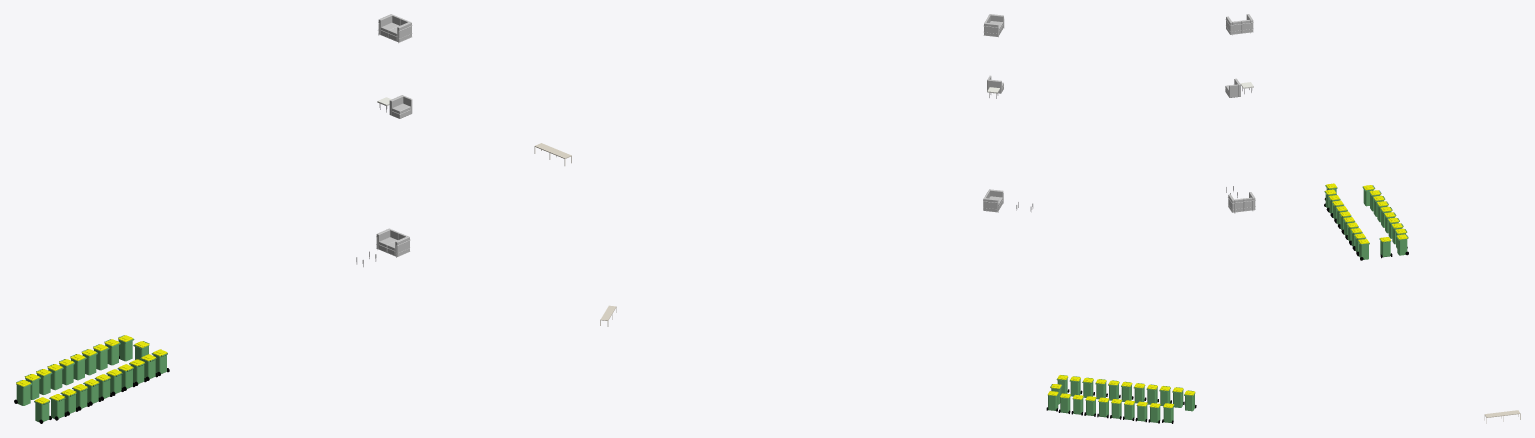
3 views of the same model, side by side, from view 1: azimuth 30°, elevation 25°; view 2: azimuth 150°, elevation 25°; view 3: azimuth 270°, elevation 25° (orthographic). The views are drawn at different scales.
Size of the model in its own units: 33.4 by 18.64 by 16.38.
